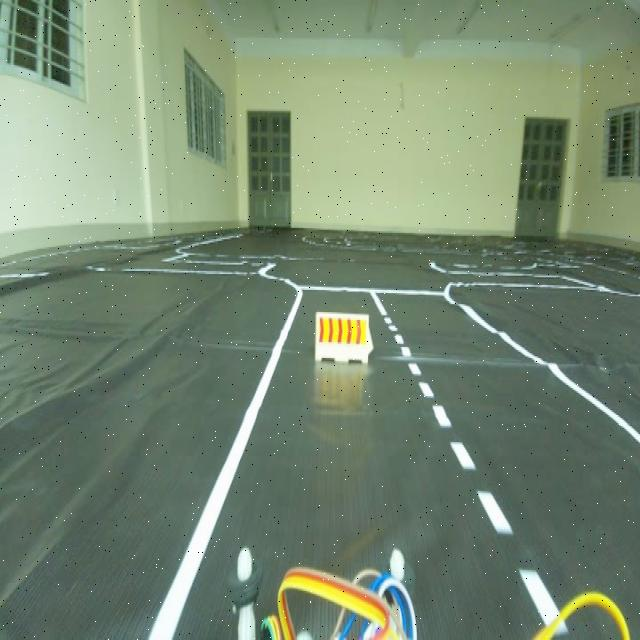roadblock: (310, 302, 375, 370)
